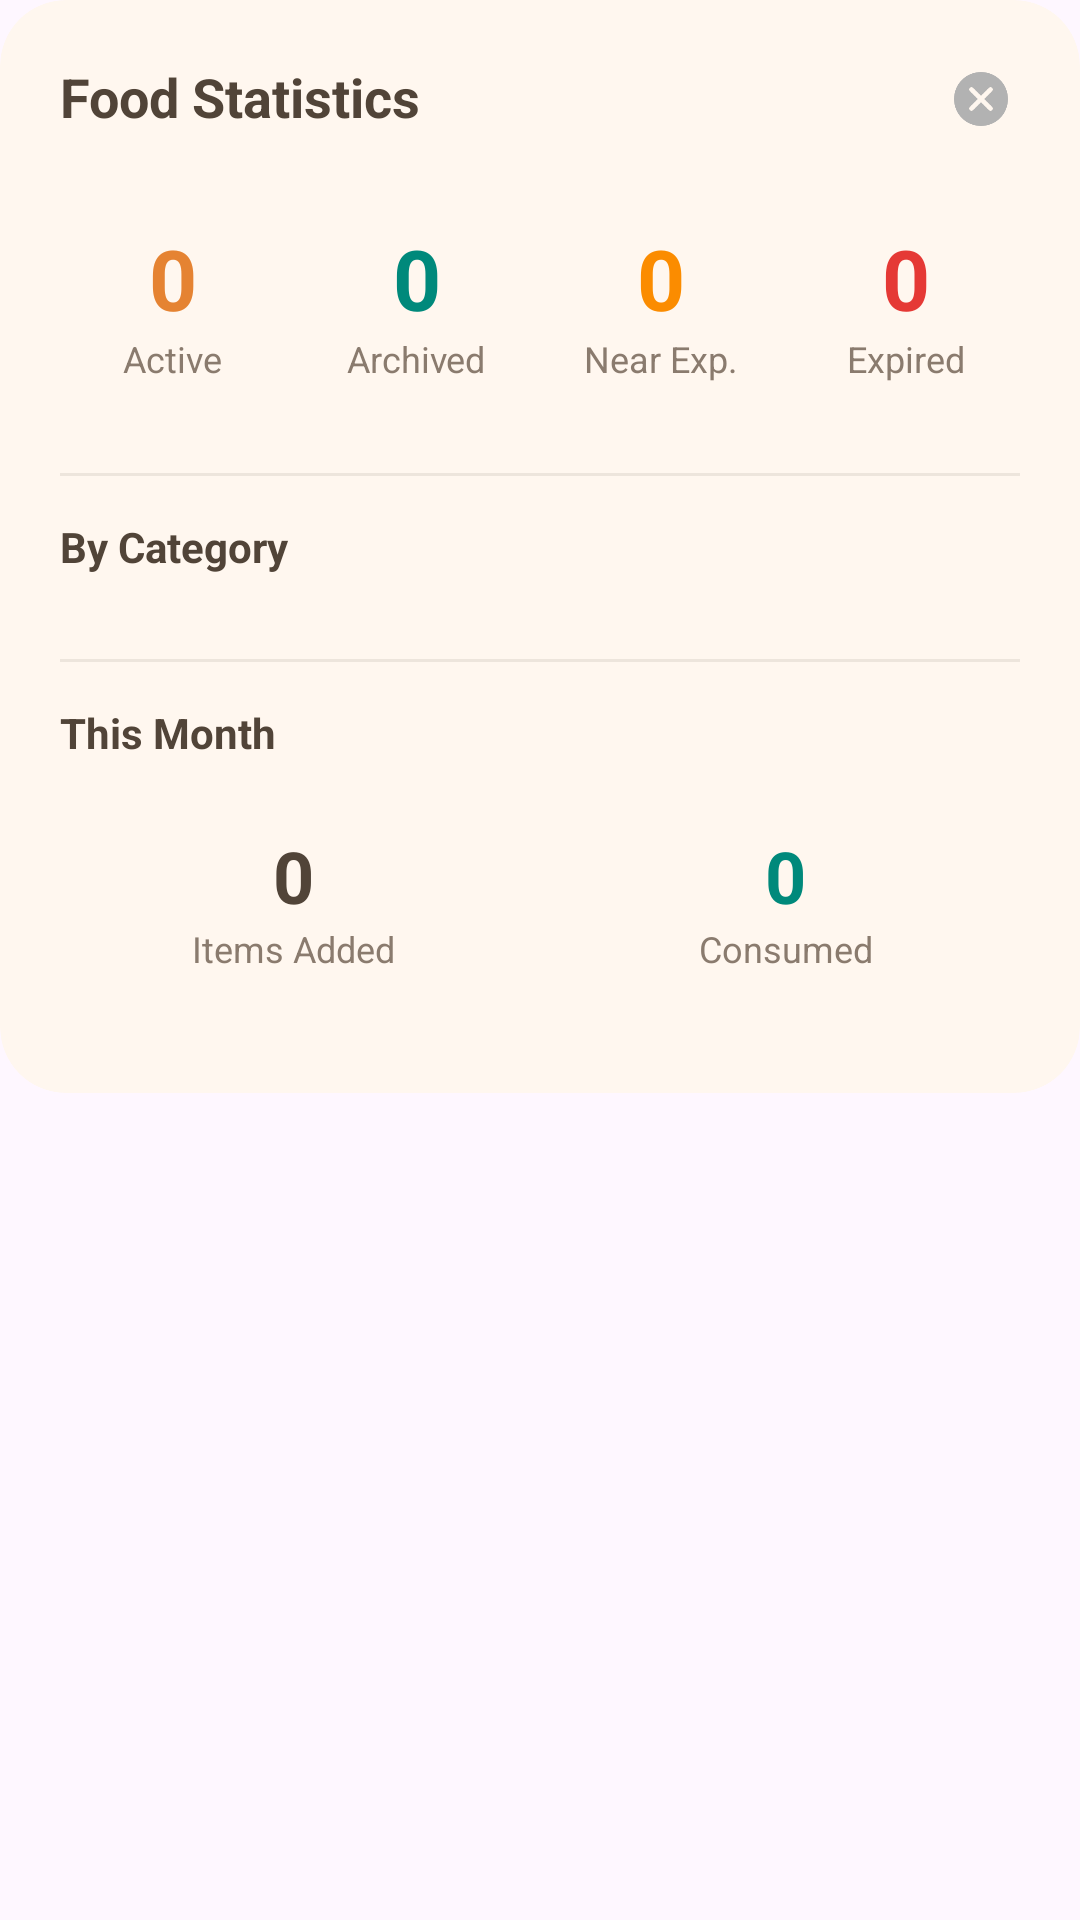

Icons on this 1080 × 1920 Android screen, each with the point to tap as point (x, y):
close: point (981, 99)
